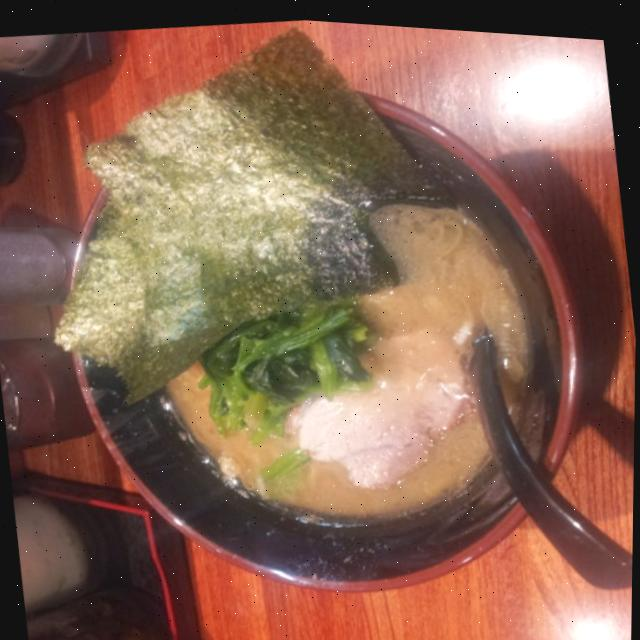面条主食: (33, 45, 604, 629)
